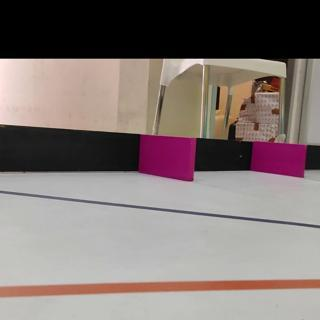xparking: (141, 135, 195, 177), (255, 145, 305, 174)
